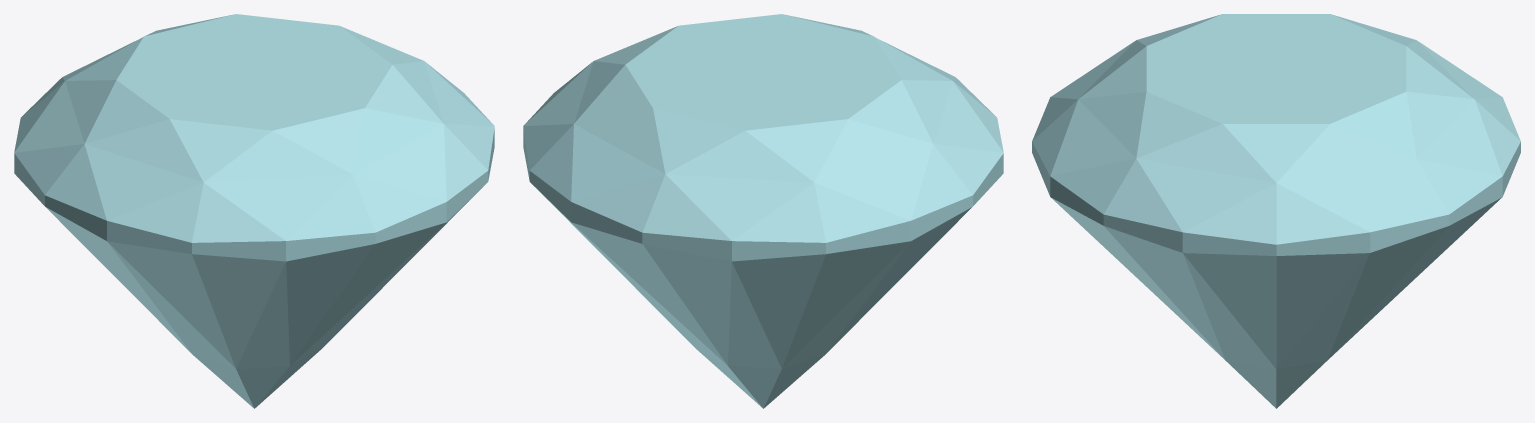
The model's file is diamond_blue.fbx.
3 views of the same model, side by side, from view 1: azimuth 30°, elevation 25°; view 2: azimuth 150°, elevation 25°; view 3: azimuth 270°, elevation 25° (orthographic).
Visible parts, largest first — view 1: ダイヤモンド; view 2: ダイヤモンド; view 3: ダイヤモンド.
Part boxes in pixels (<box>): ダイヤモンド: <box>14,14,494,408</box>; ダイヤモンド: <box>523,14,1003,408</box>; ダイヤモンド: <box>1032,14,1520,408</box>.
Bounding box in the file's own units: 1 × 0.7674 × 1.
